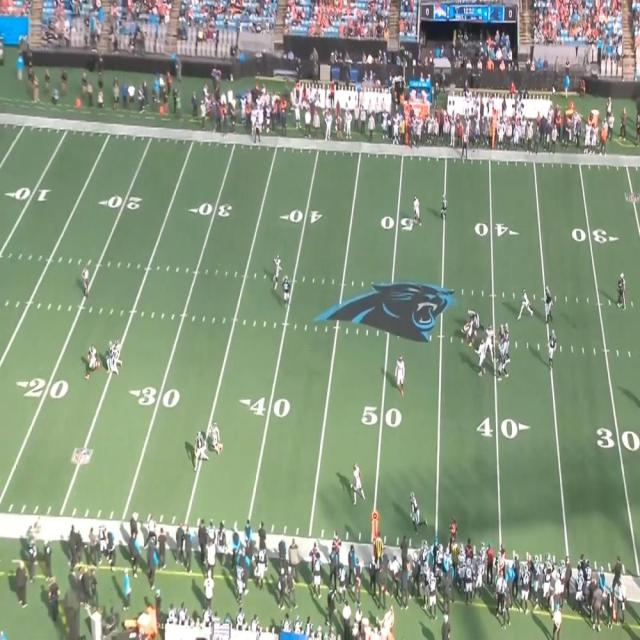db: (352, 462, 362, 499), (210, 421, 222, 451), (86, 346, 98, 376), (112, 337, 122, 367), (274, 253, 280, 290)
lb: (395, 356, 404, 394), (413, 194, 421, 226)
qb: (548, 330, 556, 366)
skill: (105, 340, 117, 372), (194, 431, 204, 467), (412, 493, 422, 528), (282, 275, 290, 304), (440, 195, 448, 220)
